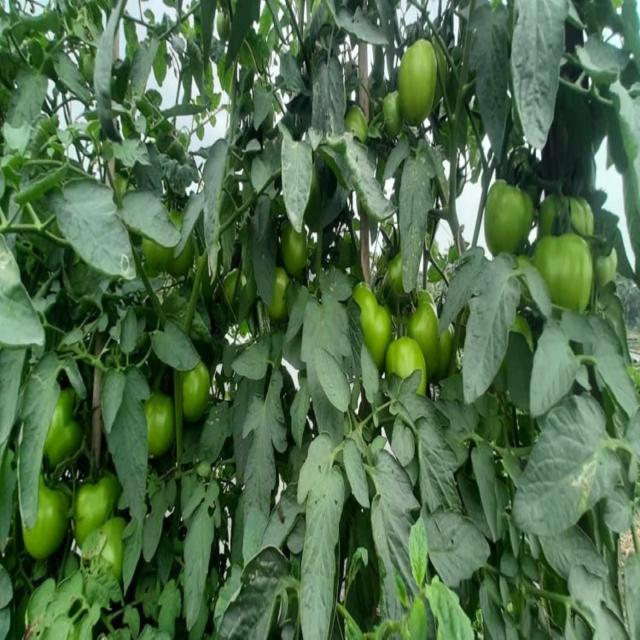tomato: (537, 235, 594, 314), (395, 39, 444, 118), (18, 484, 67, 557), (486, 179, 524, 256), (44, 390, 80, 470), (385, 334, 425, 398), (76, 475, 115, 531), (355, 283, 387, 351), (150, 238, 197, 284), (412, 290, 439, 369), (546, 188, 594, 230), (179, 364, 213, 418), (82, 531, 125, 570), (593, 229, 619, 284), (149, 393, 170, 452), (435, 312, 455, 372), (378, 87, 403, 132), (285, 223, 309, 268), (225, 273, 255, 301), (271, 273, 287, 317), (351, 109, 371, 142)
